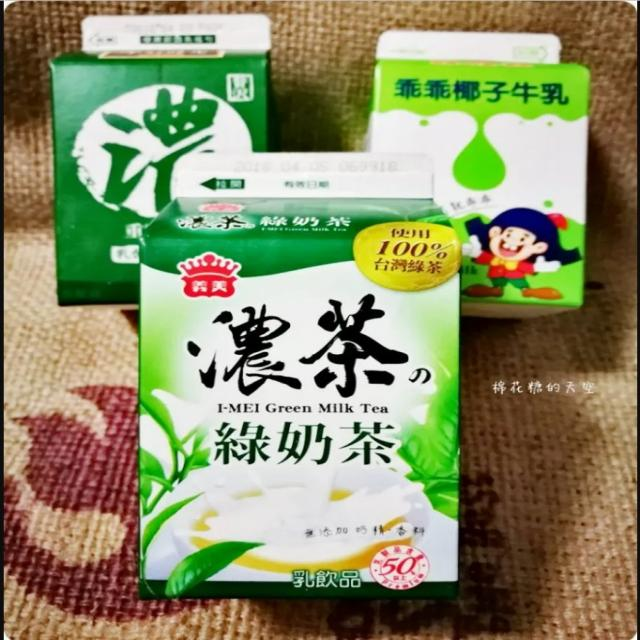non_white_jug: (113, 136, 481, 608), (38, 0, 282, 310), (346, 21, 596, 323)
